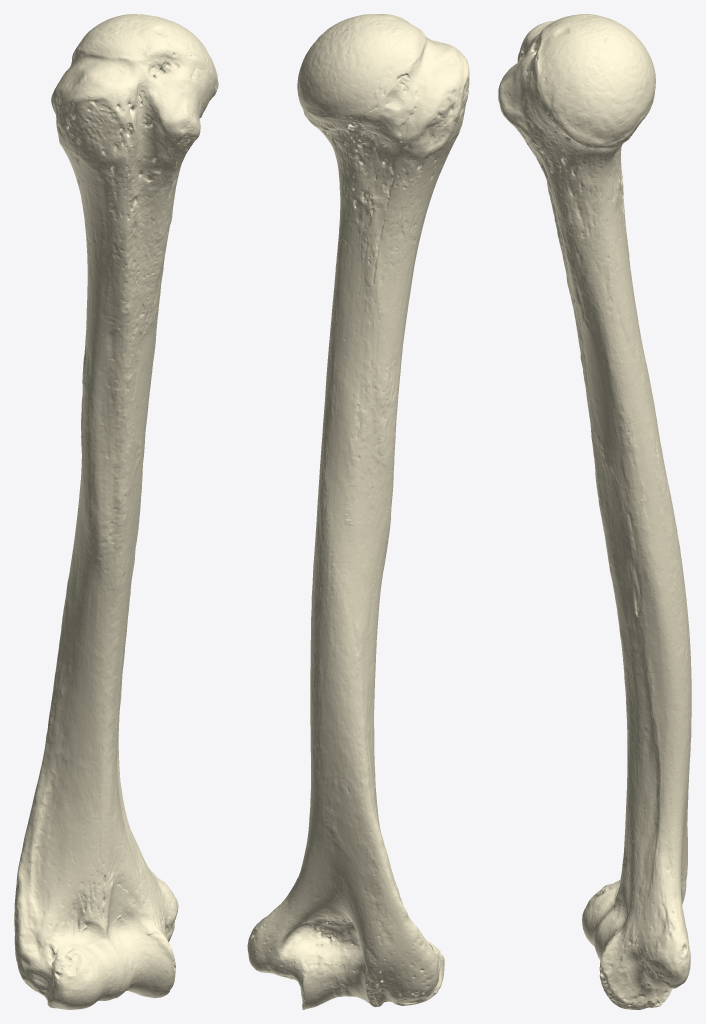
Rendered from human_femur.fbx.
The picture shows the model from 3 angles, left to right: view 1: azimuth 30°, elevation 25°; view 2: azimuth 150°, elevation 25°; view 3: azimuth 270°, elevation 25°; orthographic projection. The views are drawn at different scales.
Visible parts, largest first — view 1: human; view 2: human; view 3: human.
Part boxes in pixels (x1,y1,x2,y2): human: (14,14,218,1009); human: (247,14,469,1009); human: (498,14,691,1009).
Bounding box in the file's own units: 500 × 2720 × 493.
